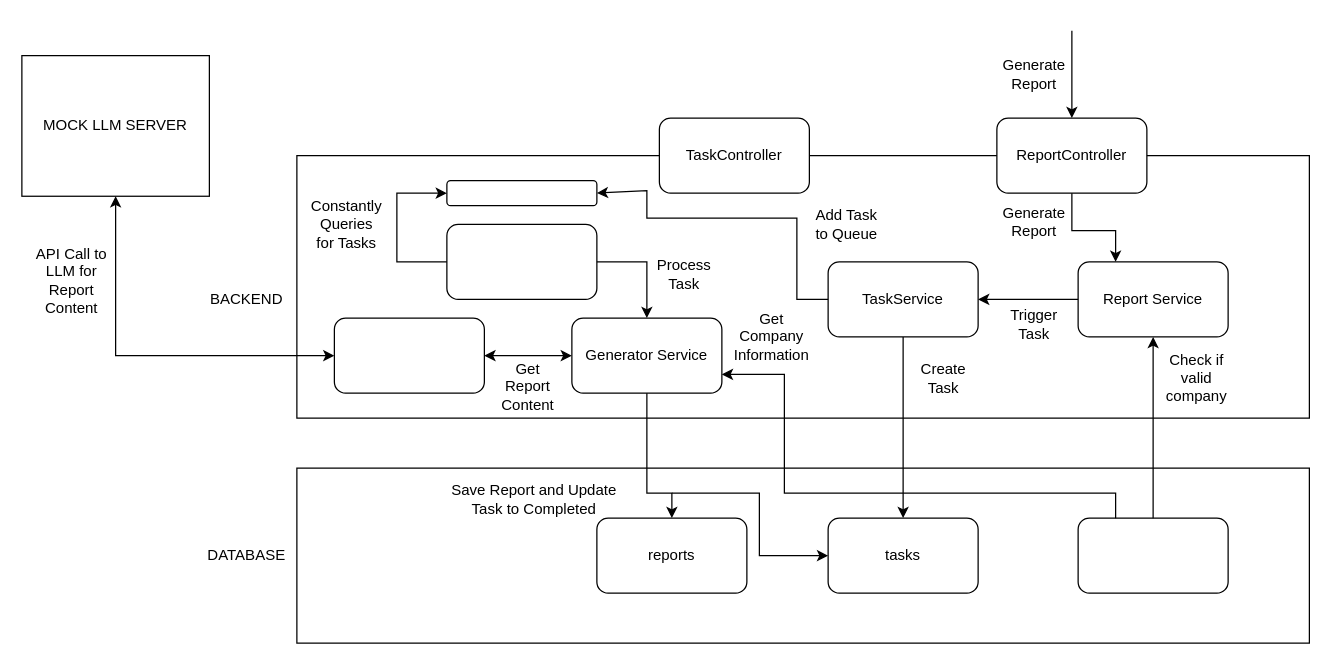
This 1331x665 diagram has some shape labels left out. The box of each missing label's shape, as (x1, y1, x2, y2) in pixels:
company_metadata: (1077, 517, 1228, 593)
GeneratorWorker: (446, 223, 597, 299)
Message Service: (333, 317, 484, 393)
Task Queue: (446, 179, 597, 206)
